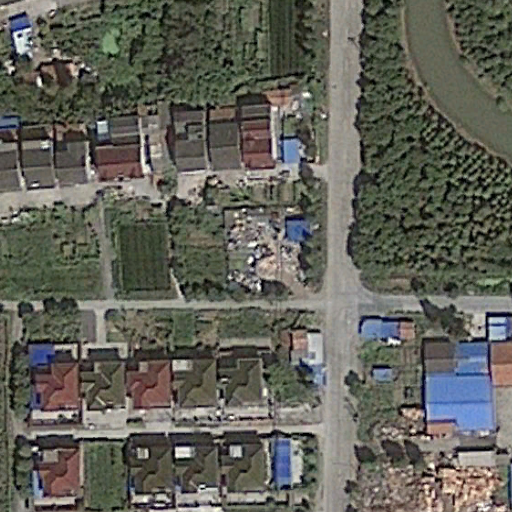msw: (229, 213, 305, 285)
